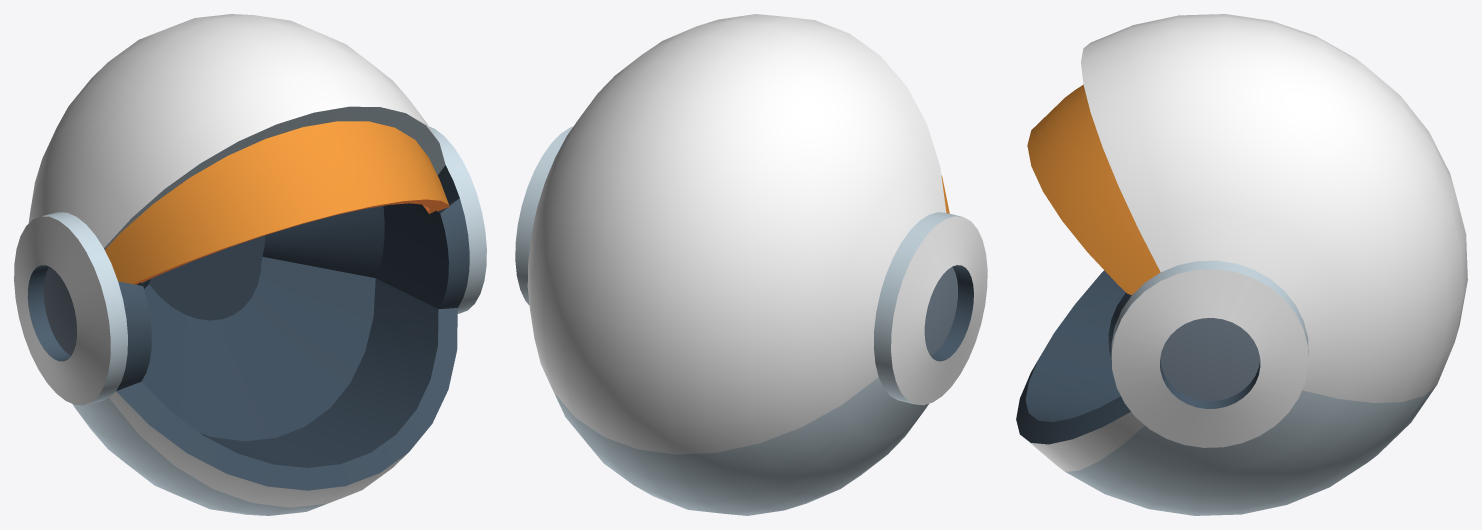
Rendered from astroHelmet.glb.
3 renders of one model, left to right at view 1: azimuth 30°, elevation 25°; view 2: azimuth 150°, elevation 25°; view 3: azimuth 270°, elevation 25°, orthographic. The views are drawn at different scales.
Parts seen in each view (by area): view 1: astroHelmet; view 2: astroHelmet; view 3: astroHelmet.
Boxes of the visible parts, <box> form: astroHelmet: <box>14,14,486,515</box>; astroHelmet: <box>515,14,987,515</box>; astroHelmet: <box>1016,14,1467,515</box>.
Bounding box in the file's own units: 1.26 × 1.39 × 1.22.
